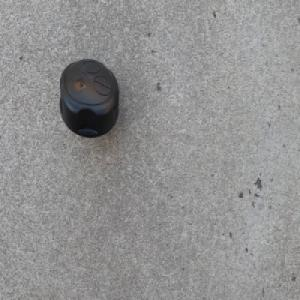FuelCap: (57, 57, 119, 142)
